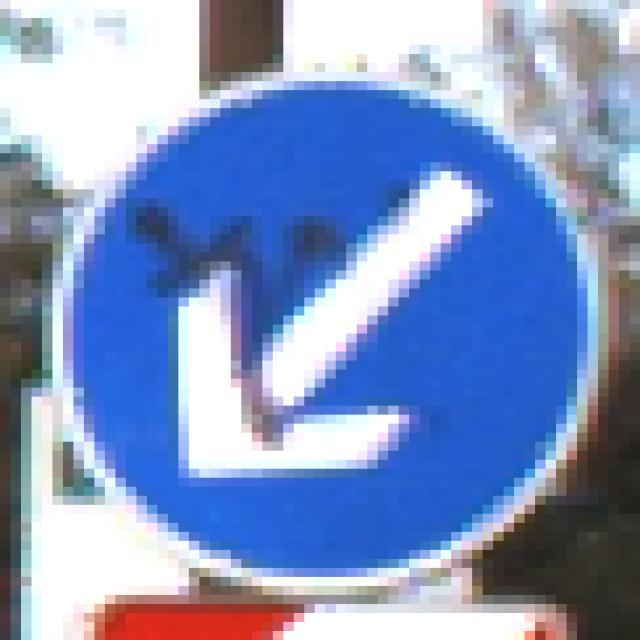compulsary keep left: (39, 57, 607, 604)
